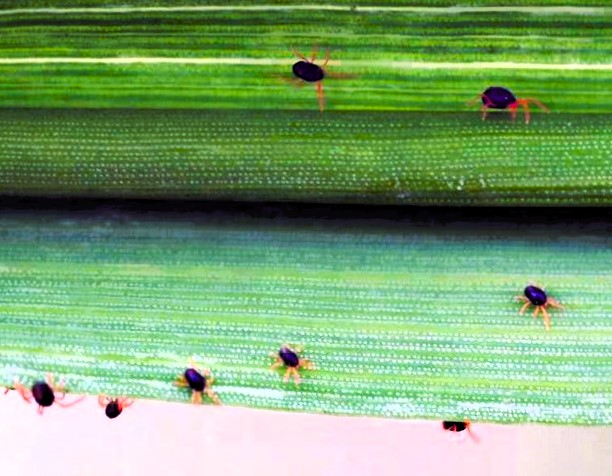Wheat Red Spider: (169, 328, 319, 415), (512, 273, 572, 333)
